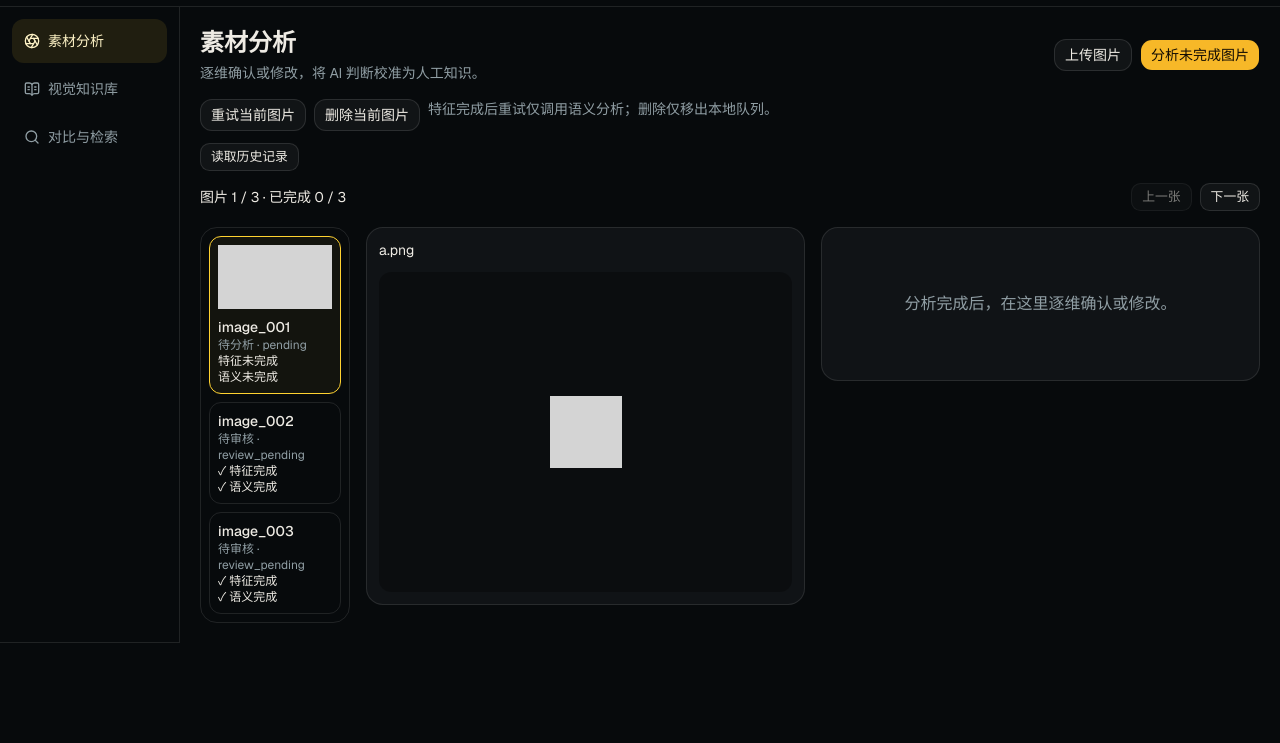
Test: reviews B while A is awaiting semantics and advances to ready C without losing either result
Click the button "分析未完成图片".
click(1200, 55)  # box 1140,39 -> 1260,71
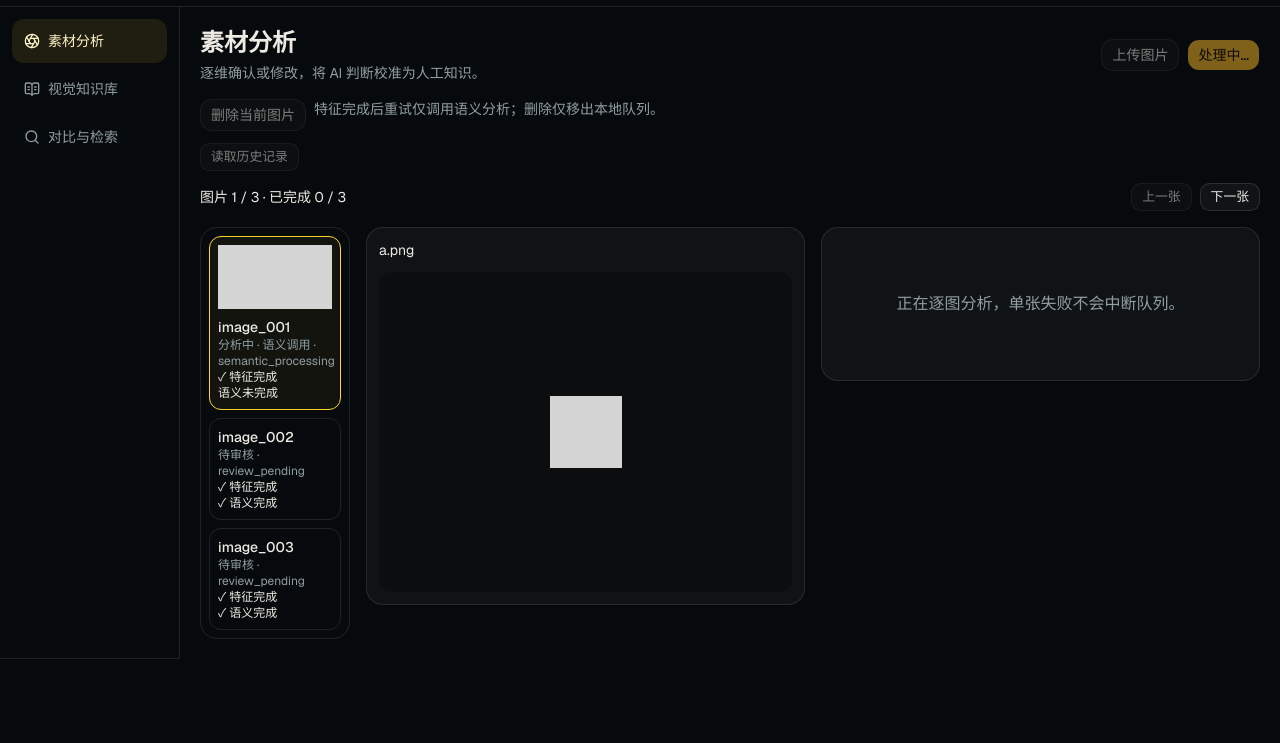
Result: the button with aria-label "image_001 semantic_processing" is shown at 209,236 -> 341,410
Click the button with aria-label "image_002 review_pending".
click(275, 469)  # box 209,418 -> 341,520
(page scrolled)
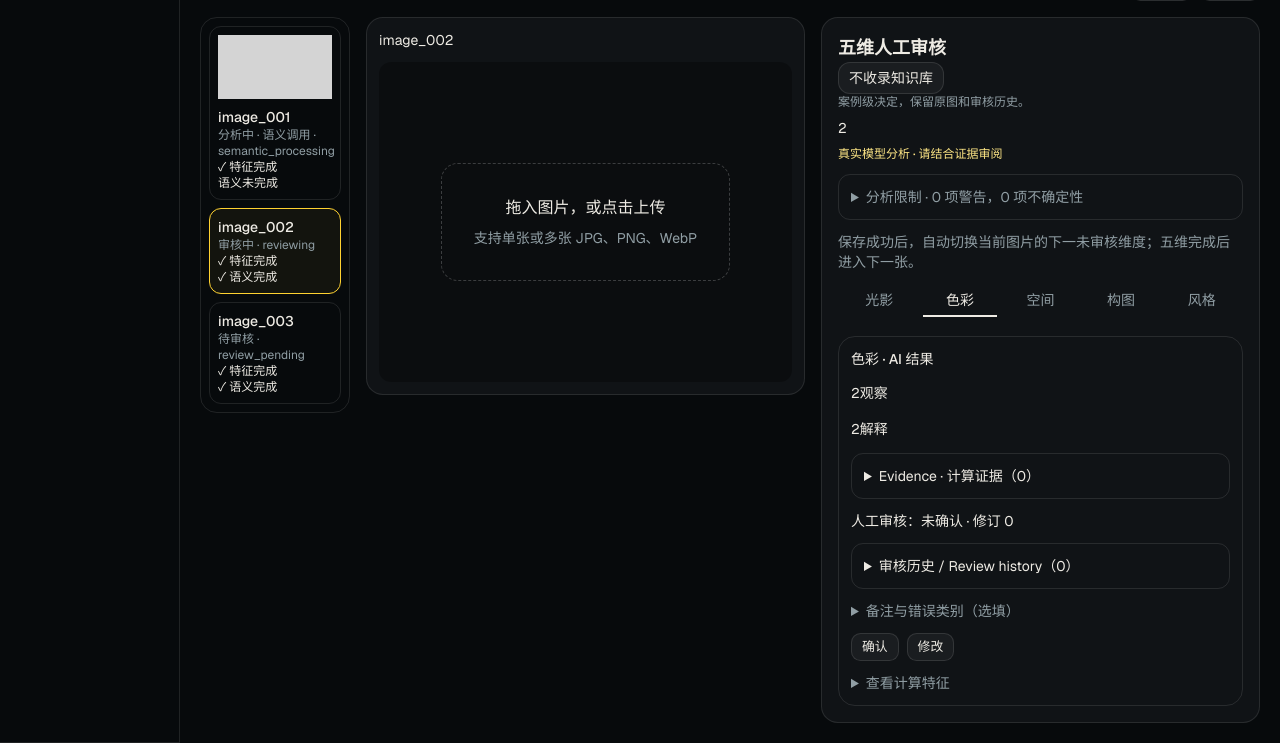
Result: the button "确认" is enabled
Click the button "确认".
click(875, 647)  # box 851,633 -> 899,661
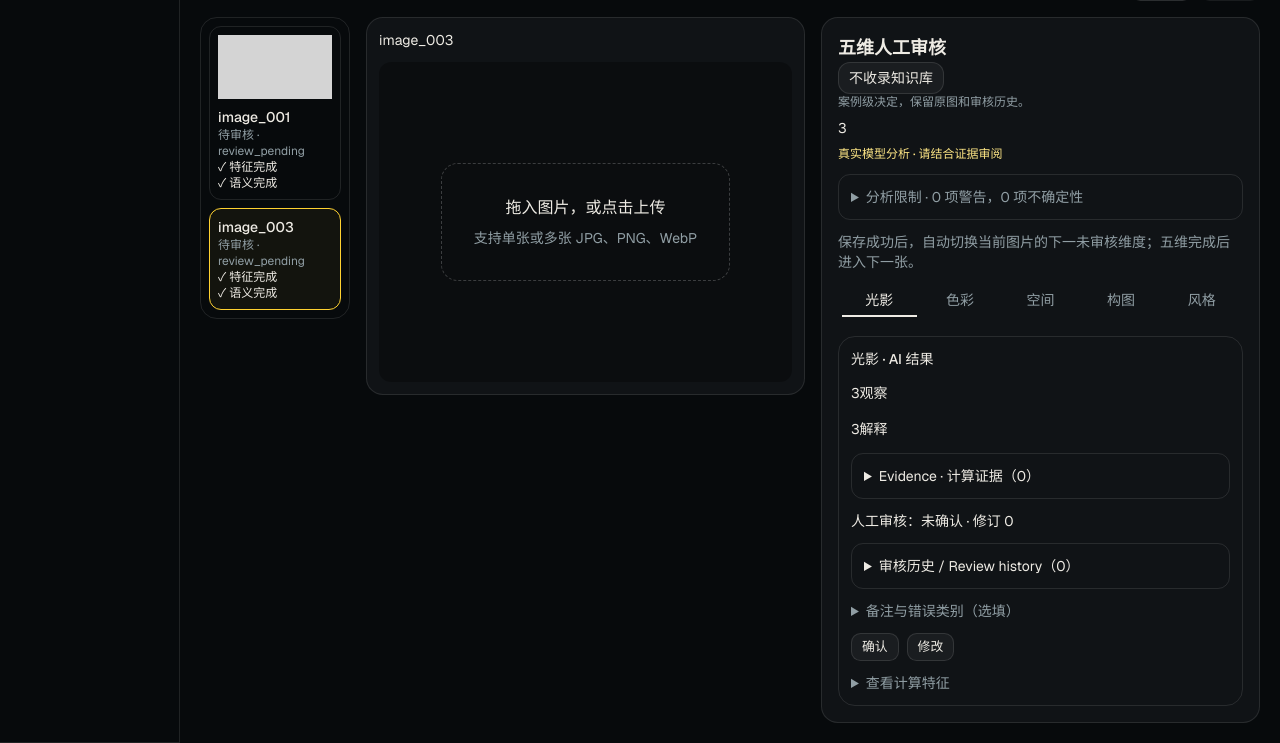
Result: the button with aria-label "image_001 review_pending" is shown at 209,26 -> 341,200
